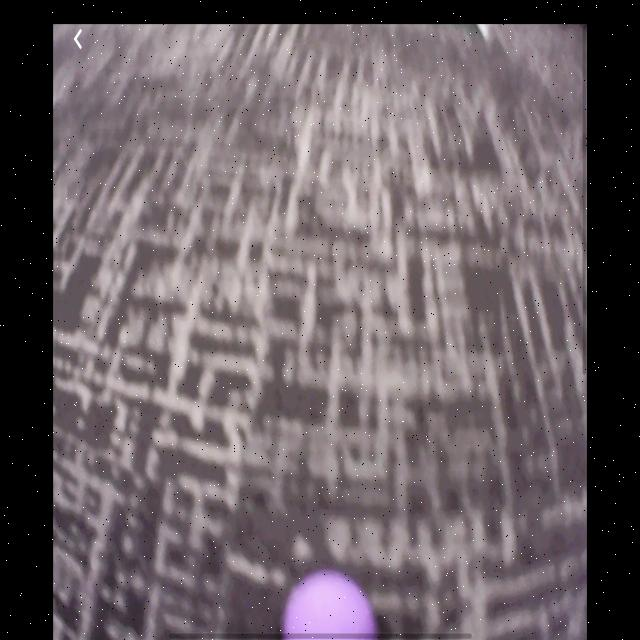ball: (285, 568, 378, 640)
